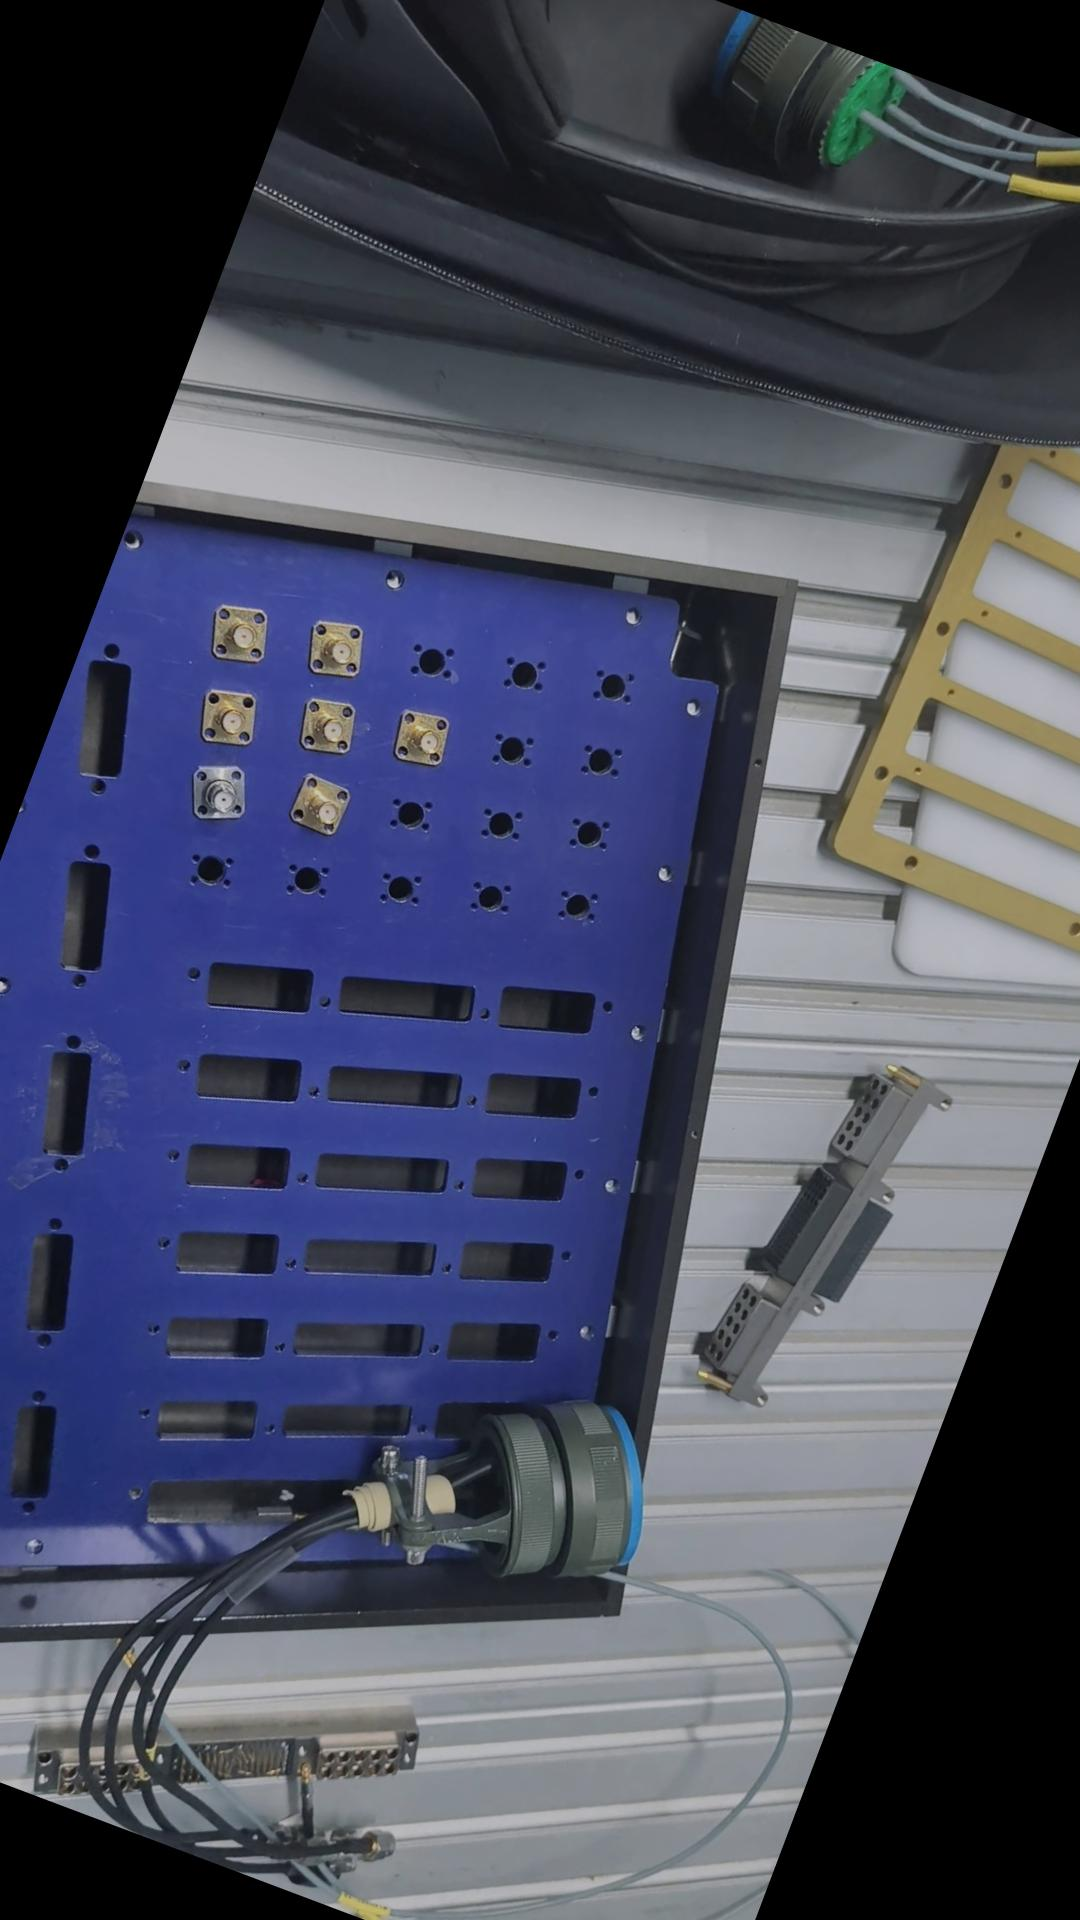SMA: (295, 611, 381, 691), (200, 593, 285, 674), (284, 767, 365, 847), (386, 700, 465, 775), (190, 684, 269, 760), (185, 754, 260, 829), (294, 694, 367, 765)
